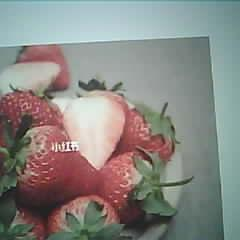straw-ripe: (15, 126, 100, 204)
